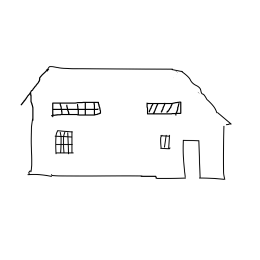closed_window: (46, 99, 104, 120), (141, 96, 187, 119), (52, 125, 80, 158), (156, 129, 173, 152)
door: (178, 133, 205, 181)
single_line_roof: (20, 56, 234, 107)
wall: (23, 104, 230, 185)
